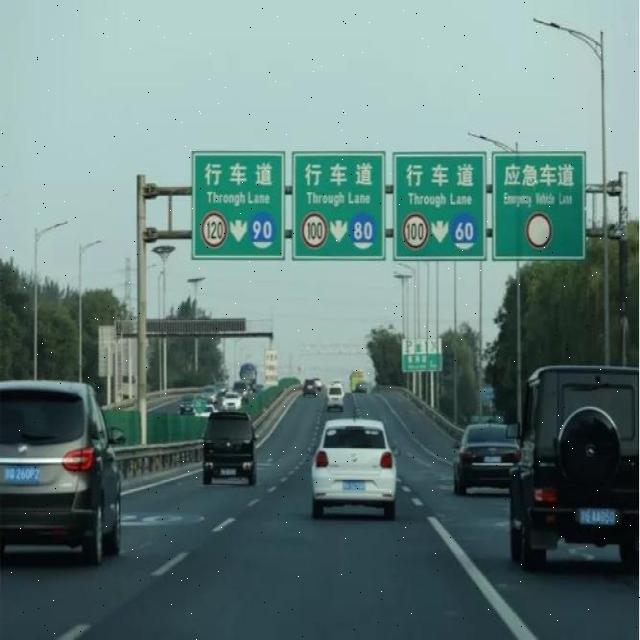speed limit 100: (301, 212, 330, 249), (403, 213, 428, 249)
speed limit 120: (202, 211, 228, 249)
speed limit 60: (450, 212, 479, 252)
speed limit 80: (350, 212, 375, 251)
speed limit 90: (250, 212, 277, 250)
